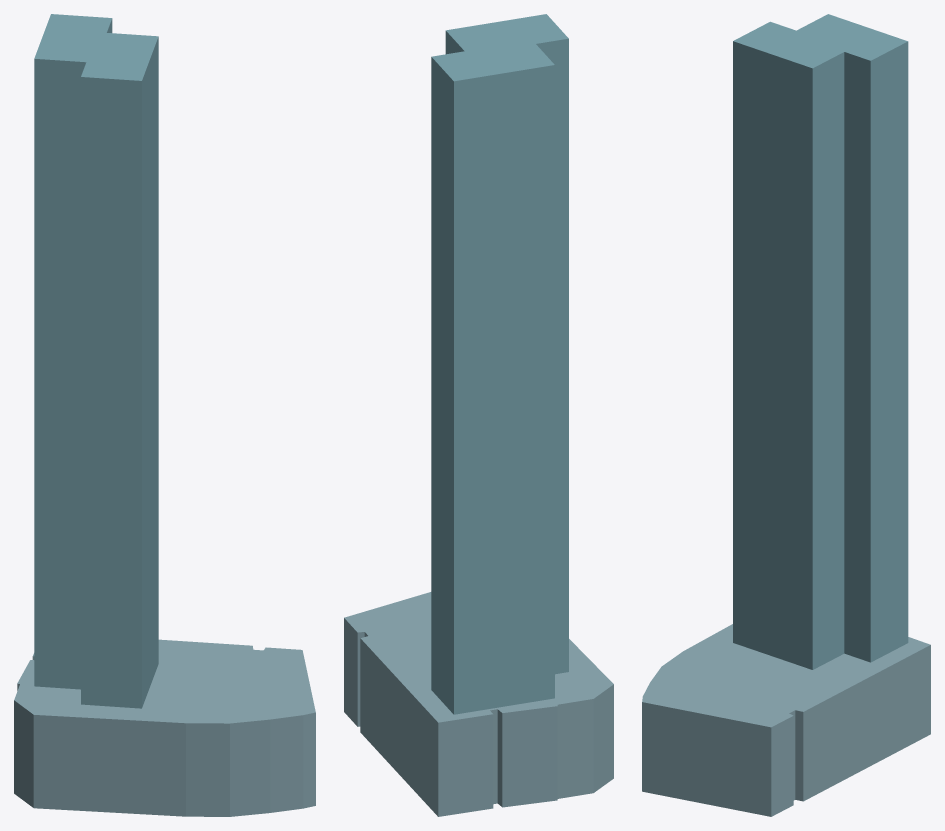
Rendered from mcity-m4-plan-derived.glb.
3 views of the same model, side by side, from view 1: azimuth 30°, elevation 25°; view 2: azimuth 150°, elevation 25°; view 3: azimuth 270°, elevation 25° (orthographic). The views are drawn at different scales.
Parts seen in each view (by area): view 1: mcity-4-schematic-tower, mcity-4-schematic-podium; view 2: mcity-4-schematic-tower, mcity-4-schematic-podium; view 3: mcity-4-schematic-tower, mcity-4-schematic-podium.
Part boxes in pixels (x1,y1,x2,y2): mcity-4-schematic-tower: [34, 14, 158, 708]; mcity-4-schematic-podium: [14, 639, 315, 816]; mcity-4-schematic-tower: [431, 14, 568, 714]; mcity-4-schematic-podium: [344, 592, 613, 816]; mcity-4-schematic-tower: [733, 14, 908, 669]; mcity-4-schematic-podium: [642, 624, 930, 816].
Size of the model in its own units: 83.9 by 216 by 81.63.
